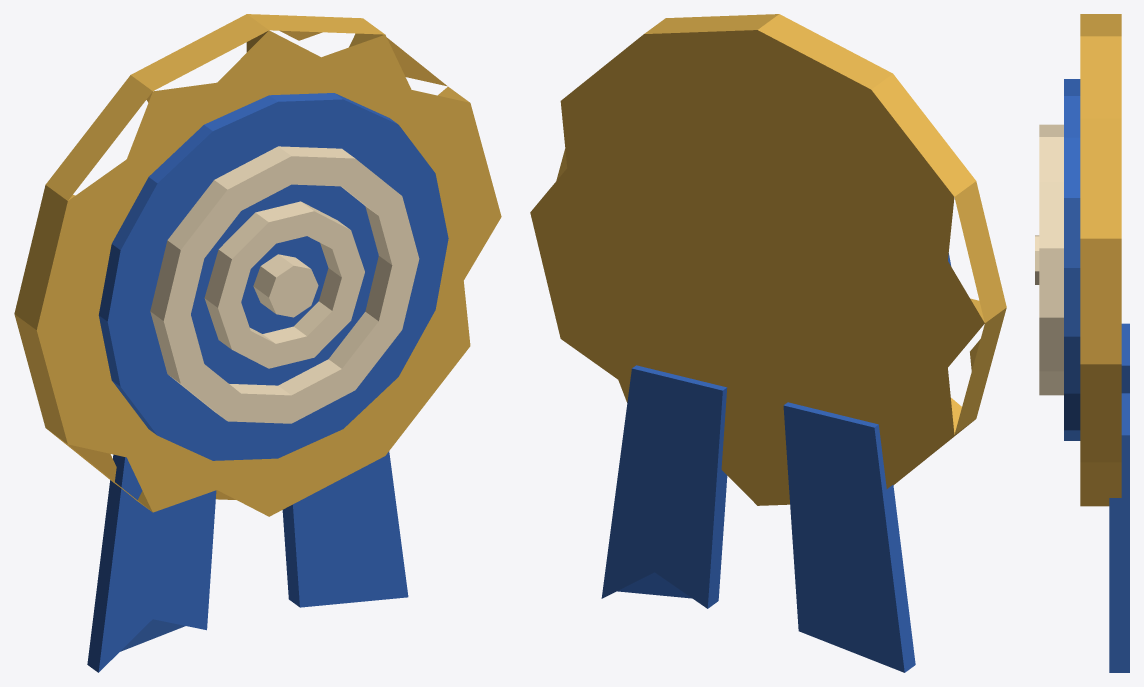
File: badge_sharpest_aim.glb
3 views of the same model, side by side, from view 1: azimuth 30°, elevation 25°; view 2: azimuth 150°, elevation 25°; view 3: azimuth 270°, elevation 25° (orthographic). The views are drawn at different scales.
Parts seen in each view (by area): view 1: badge, ribbon; view 2: badge, ribbon; view 3: badge, ribbon.
Boxes of the visible parts, x1=… form: badge: x1=14, y1=14, x2=501, y2=516; ribbon: x1=87, y1=451, x2=408, y2=672; badge: x1=530, y1=14, x2=1006, y2=505; ribbon: x1=601, y1=365, x2=915, y2=672; badge: x1=1035, y1=14, x2=1121, y2=506; ribbon: x1=1109, y1=323, x2=1129, y2=672.
Size of the model in its own units: 0.06 by 0.076 by 0.0115.
